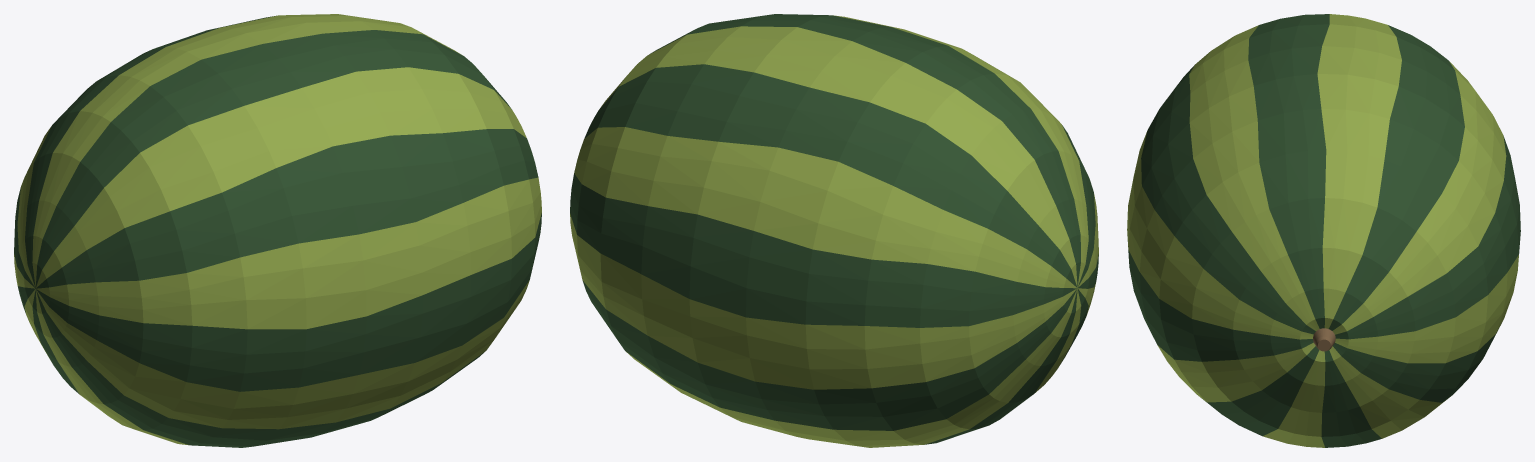
File: watermelon.glb
The picture shows the model from 3 angles, left to right: view 1: azimuth 30°, elevation 25°; view 2: azimuth 150°, elevation 25°; view 3: azimuth 270°, elevation 25°; orthographic projection. The views are drawn at different scales.
Visible parts, largest first — view 1: watermelon complete axial surface; view 2: watermelon complete axial surface; view 3: watermelon complete axial surface.
Boxes of the visible parts, bbox=[...] form: watermelon complete axial surface: bbox=[14, 14, 541, 447]; watermelon complete axial surface: bbox=[570, 14, 1098, 447]; watermelon complete axial surface: bbox=[1127, 14, 1520, 447].
Size of the model in its own units: 0.32 by 0.235 by 0.2374.
